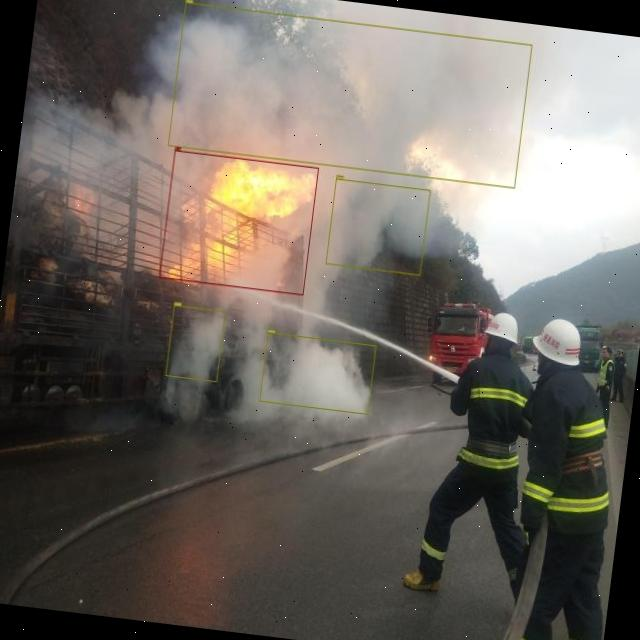fire: (159, 150, 319, 295)
smoke: (167, 2, 531, 188), (325, 178, 430, 275), (258, 332, 376, 414), (166, 304, 226, 382)
